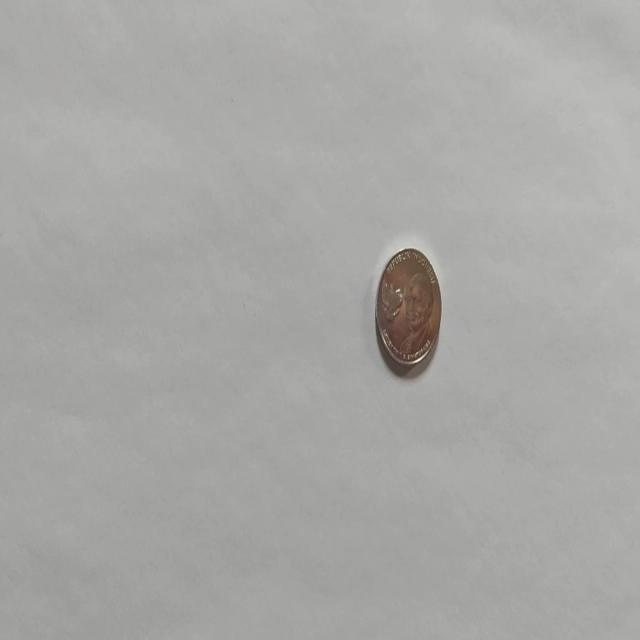lima ratus rupiah: (374, 246, 442, 372)
